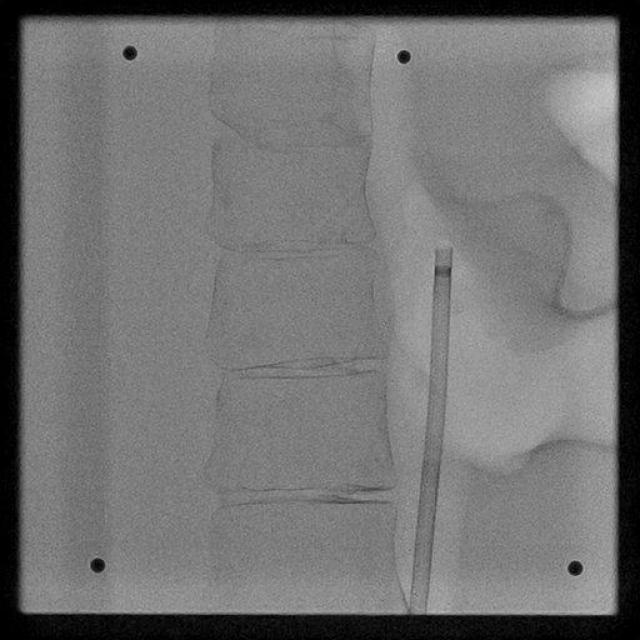bend: (422, 446, 443, 459)
entry: (410, 608, 428, 614)
marker: (434, 266, 452, 278)
tip: (436, 246, 453, 253)
